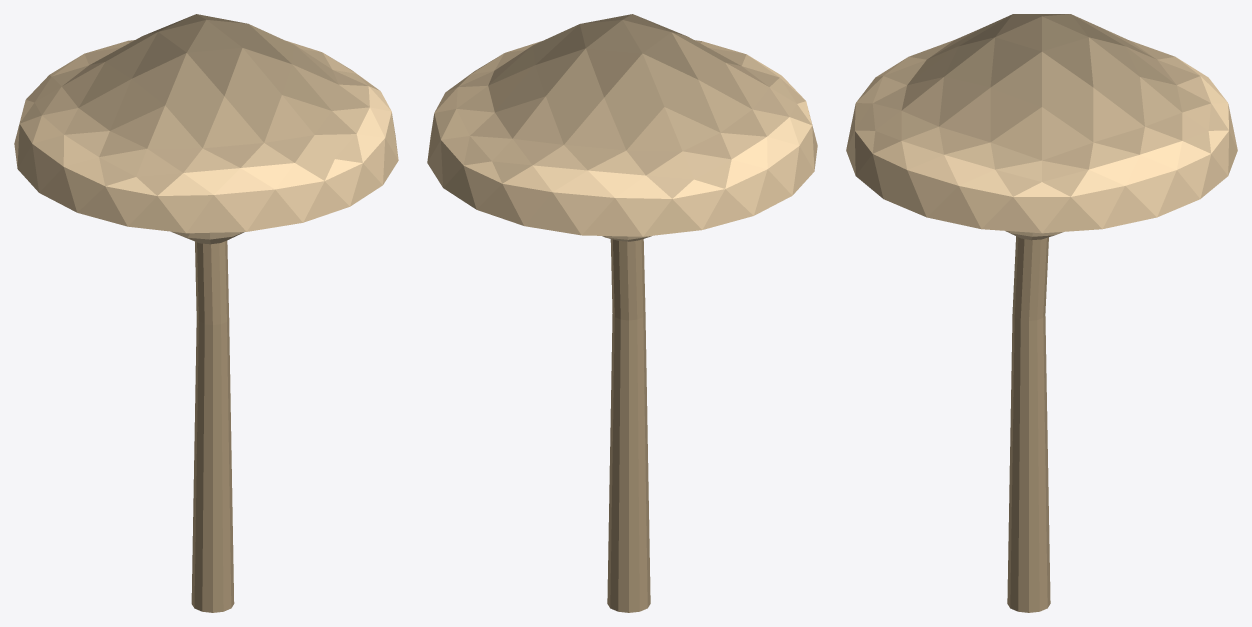
File: Macrolepiota_big.fbx
3 views of the same model, side by side, from view 1: azimuth 30°, elevation 25°; view 2: azimuth 150°, elevation 25°; view 3: azimuth 270°, elevation 25° (orthographic).
Parts seen in each view (by area): view 1: Icosphere.009; view 2: Icosphere.009; view 3: Icosphere.009.
Part boxes in pixels (x1=…): Icosphere.009: x1=14, y1=14, x2=398, y2=612; Icosphere.009: x1=427, y1=14, x2=817, y2=612; Icosphere.009: x1=846, y1=14, x2=1237, y2=612.
Bounding box in the file's own units: 123 × 204 × 123.
